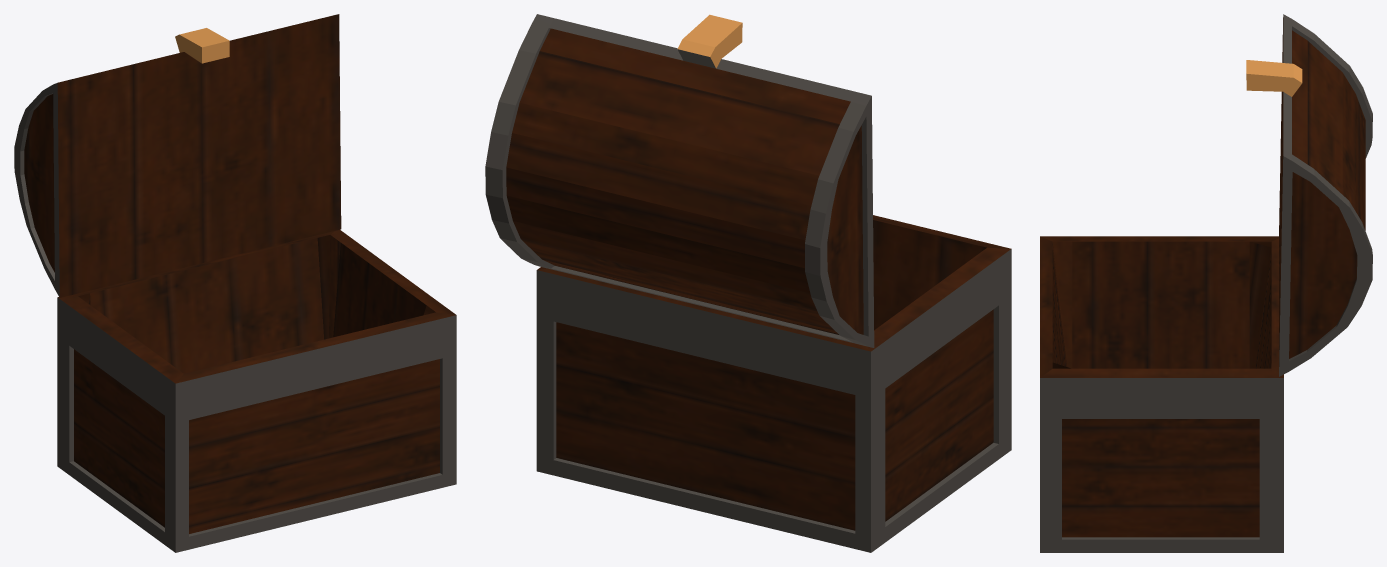
File: OpenTier2Chest.glb
The picture shows the model from 3 angles, left to right: view 1: azimuth 30°, elevation 25°; view 2: azimuth 150°, elevation 25°; view 3: azimuth 270°, elevation 25°; orthographic projection. The views are drawn at different scales.
Visible parts, largest first — view 1: OpenTier2Chest; view 2: OpenTier2Chest; view 3: OpenTier2Chest.
Boxes of the visible parts, bbox=[...] form: OpenTier2Chest: bbox=[14, 14, 456, 552]; OpenTier2Chest: bbox=[485, 14, 1011, 552]; OpenTier2Chest: bbox=[1040, 14, 1372, 552].
Bounding box in the file's own units: 0.686 × 0.9352 × 0.6799.
Materials: 3 (1 with a texture image).
